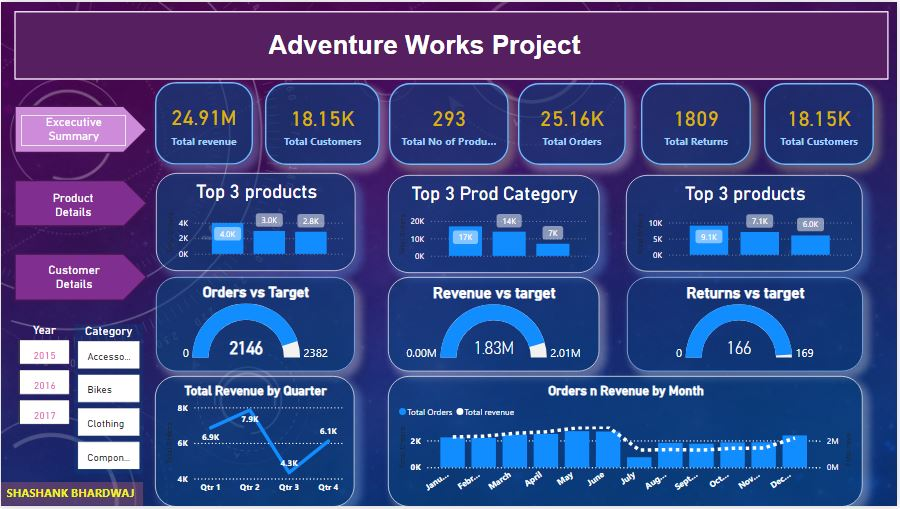

The dashboard page shown, as its layout file describes it:
{"tool":"powerbi","page":{"name":"Excecutive SUmmary","canvas":[1280,720],"ordinal":0},"visuals":[{"type":"actionButton","title":"Excecutive Summary","box":[28.5,160.8,150.8,44.6],"z":0},{"type":"actionButton","title":"Product Details","box":[46.2,270,114.6,47.7],"z":1000},{"type":"actionButton","title":"Customer Details","box":[53.8,372.3,100,40],"z":2000},{"type":"card","title":"Total Revenue","fields":{"Values":["AdventureWorks_Sales.Total revenue"]},"box":[219.9,113.7,139.5,118.3],"z":3000},{"type":"card","title":"Total Revenue","fields":{"Values":["AdventureWorks_Customers.Total Customers"]},"box":[377.1,115.7,164.3,117.1],"z":4000},{"type":"card","title":"Total Revenue","fields":{"Values":["AdventureWorks_Products.Total No of Products"]},"box":[554.3,115.7,171.4,117.1],"z":5000},{"type":"card","title":"Total Revenue","fields":{"Values":["AdventureWorks_Sales.Total Orders"]},"box":[738.6,115.7,154.3,117.1],"z":6000},{"type":"card","title":"Total Revenue","fields":{"Values":["AdventureWorks_Returns.Total Returns"]},"box":[914.3,115.7,157.1,117.1],"z":7000},{"type":"card","title":"Total Revenue","fields":{"Values":["AdventureWorks_Customers.Total Customers"]},"box":[1090,115.7,157.1,117.1],"z":8000},{"type":"textbox","box":[377.1,35.7,741.4,111.4],"z":9000},{"type":"clusteredColumnChart","title":"Top 3 products","fields":{"Category":["AdventureWorks_Products.ProductName"],"Y":["AdventureWorks_Sales.Total Orders"]},"box":[221.4,244.2,285.1,139.5],"z":10000},{"type":"clusteredColumnChart","title":"Top 3 Prod Category","fields":{"Y":["AdventureWorks_Sales.Total Orders"],"Category":["AdventureWorks_Product_Category.CategoryName"]},"box":[553.6,247.2,301.8,139.5],"z":11000},{"type":"clusteredColumnChart","title":"Top 3 products","fields":{"Y":["AdventureWorks_Sales.Total Orders"],"Category":["AdventureWorks_Product_Subcategories.SubcategoryName"]},"box":[893.3,247.2,338.2,138],"z":12000},{"type":"gauge","title":"Orders vs Target","fields":{"Y":["AdventureWorks_Sales.Total Orders"],"MaxValue":["AdventureWorks_Sales.Order Target"]},"box":[221.4,392.8,283.6,135],"z":13000},{"type":"gauge","title":"Revenue vs target","fields":{"Y":["AdventureWorks_Sales.Total revenue"],"MaxValue":["Sum(AdventureWorks_Sales.Revenue Target)"]},"box":[553.6,392.8,301.8,135],"z":14000},{"type":"gauge","title":"Returns vs target","fields":{"Y":["AdventureWorks_Returns.Total Returns"],"MaxValue":["AdventureWorks_Returns.Previous month returns"]},"box":[894.8,392.8,336.7,135],"z":15000},{"type":"lineChart","title":"Total Revenue by Quarter","fields":{"Category":["AdventureWorks_Calendar.Date.Variation.Date Hierarchy.Quarter"],"Y":["AdventureWorks_Sales.Total Orders"]},"box":[219.9,533.8,285.1,186.5],"z":16000},{"type":"lineStackedColumnComboChart","title":"Orders n Revenue by Month","fields":{"Category":["AdventureWorks_Calendar.Start of Month.Variation.Date Hierarchy.Year","AdventureWorks_Calendar.Start of Month.Variation.Date Hierarchy.Quarter","AdventureWorks_Calendar.Start of Month.Variation.Date Hierarchy.Month","AdventureWorks_Calendar.Start of Month.Variation.Date Hierarchy.Day"],"Y":["AdventureWorks_Sales.Total Orders"],"Y2":["AdventureWorks_Sales.Total revenue"]},"box":[553.6,533.8,677.9,186.5],"z":17000},{"type":"advancedSlicerVisual","fields":{"Values":["AdventureWorks_Calendar.Date.Variation.Date Hierarchy.Year"]},"box":[20,458.2,83.6,150],"z":18000},{"type":"advancedSlicerVisual","title":"Category","fields":{"Values":["AdventureWorks_Product_Category.CategoryName"]},"box":[103.6,460,99.1,213.6],"z":19000},{"type":"textbox","box":[0,685.7,202.9,34.3],"z":20000}]}

Visuals, with their boxes in screenshot pixels (x1, y1, x2, y2), scaled from the page's 1280x720 canvas onto the 900x509 screenshot:
"Excecutive Summary" actionButton: 20, 114, 126, 145
"Product Details" actionButton: 32, 191, 113, 225
"Customer Details" actionButton: 38, 263, 108, 291
"Total Revenue" card: 155, 80, 253, 164
"Total Revenue" card: 265, 82, 381, 165
"Total Revenue" card: 390, 82, 510, 165
"Total Revenue" card: 519, 82, 628, 165
"Total Revenue" card: 643, 82, 753, 165
"Total Revenue" card: 766, 82, 877, 165
textbox: 265, 25, 786, 104
"Top 3 products" clusteredColumnChart: 156, 173, 356, 271
"Top 3 Prod Category" clusteredColumnChart: 389, 175, 601, 273
"Top 3 products" clusteredColumnChart: 628, 175, 866, 272
"Orders vs Target" gauge: 156, 278, 355, 373
"Revenue vs target" gauge: 389, 278, 601, 373
"Returns vs target" gauge: 629, 278, 866, 373
"Total Revenue by Quarter" lineChart: 155, 377, 355, 508
"Orders n Revenue by Month" lineStackedColumnComboChart: 389, 377, 866, 508
advancedSlicerVisual - AdventureWorks_Calendar.Date.Variation.Date Hierarchy.Year: 14, 324, 73, 430
"Category" advancedSlicerVisual: 73, 325, 143, 476
textbox: 0, 485, 143, 508
